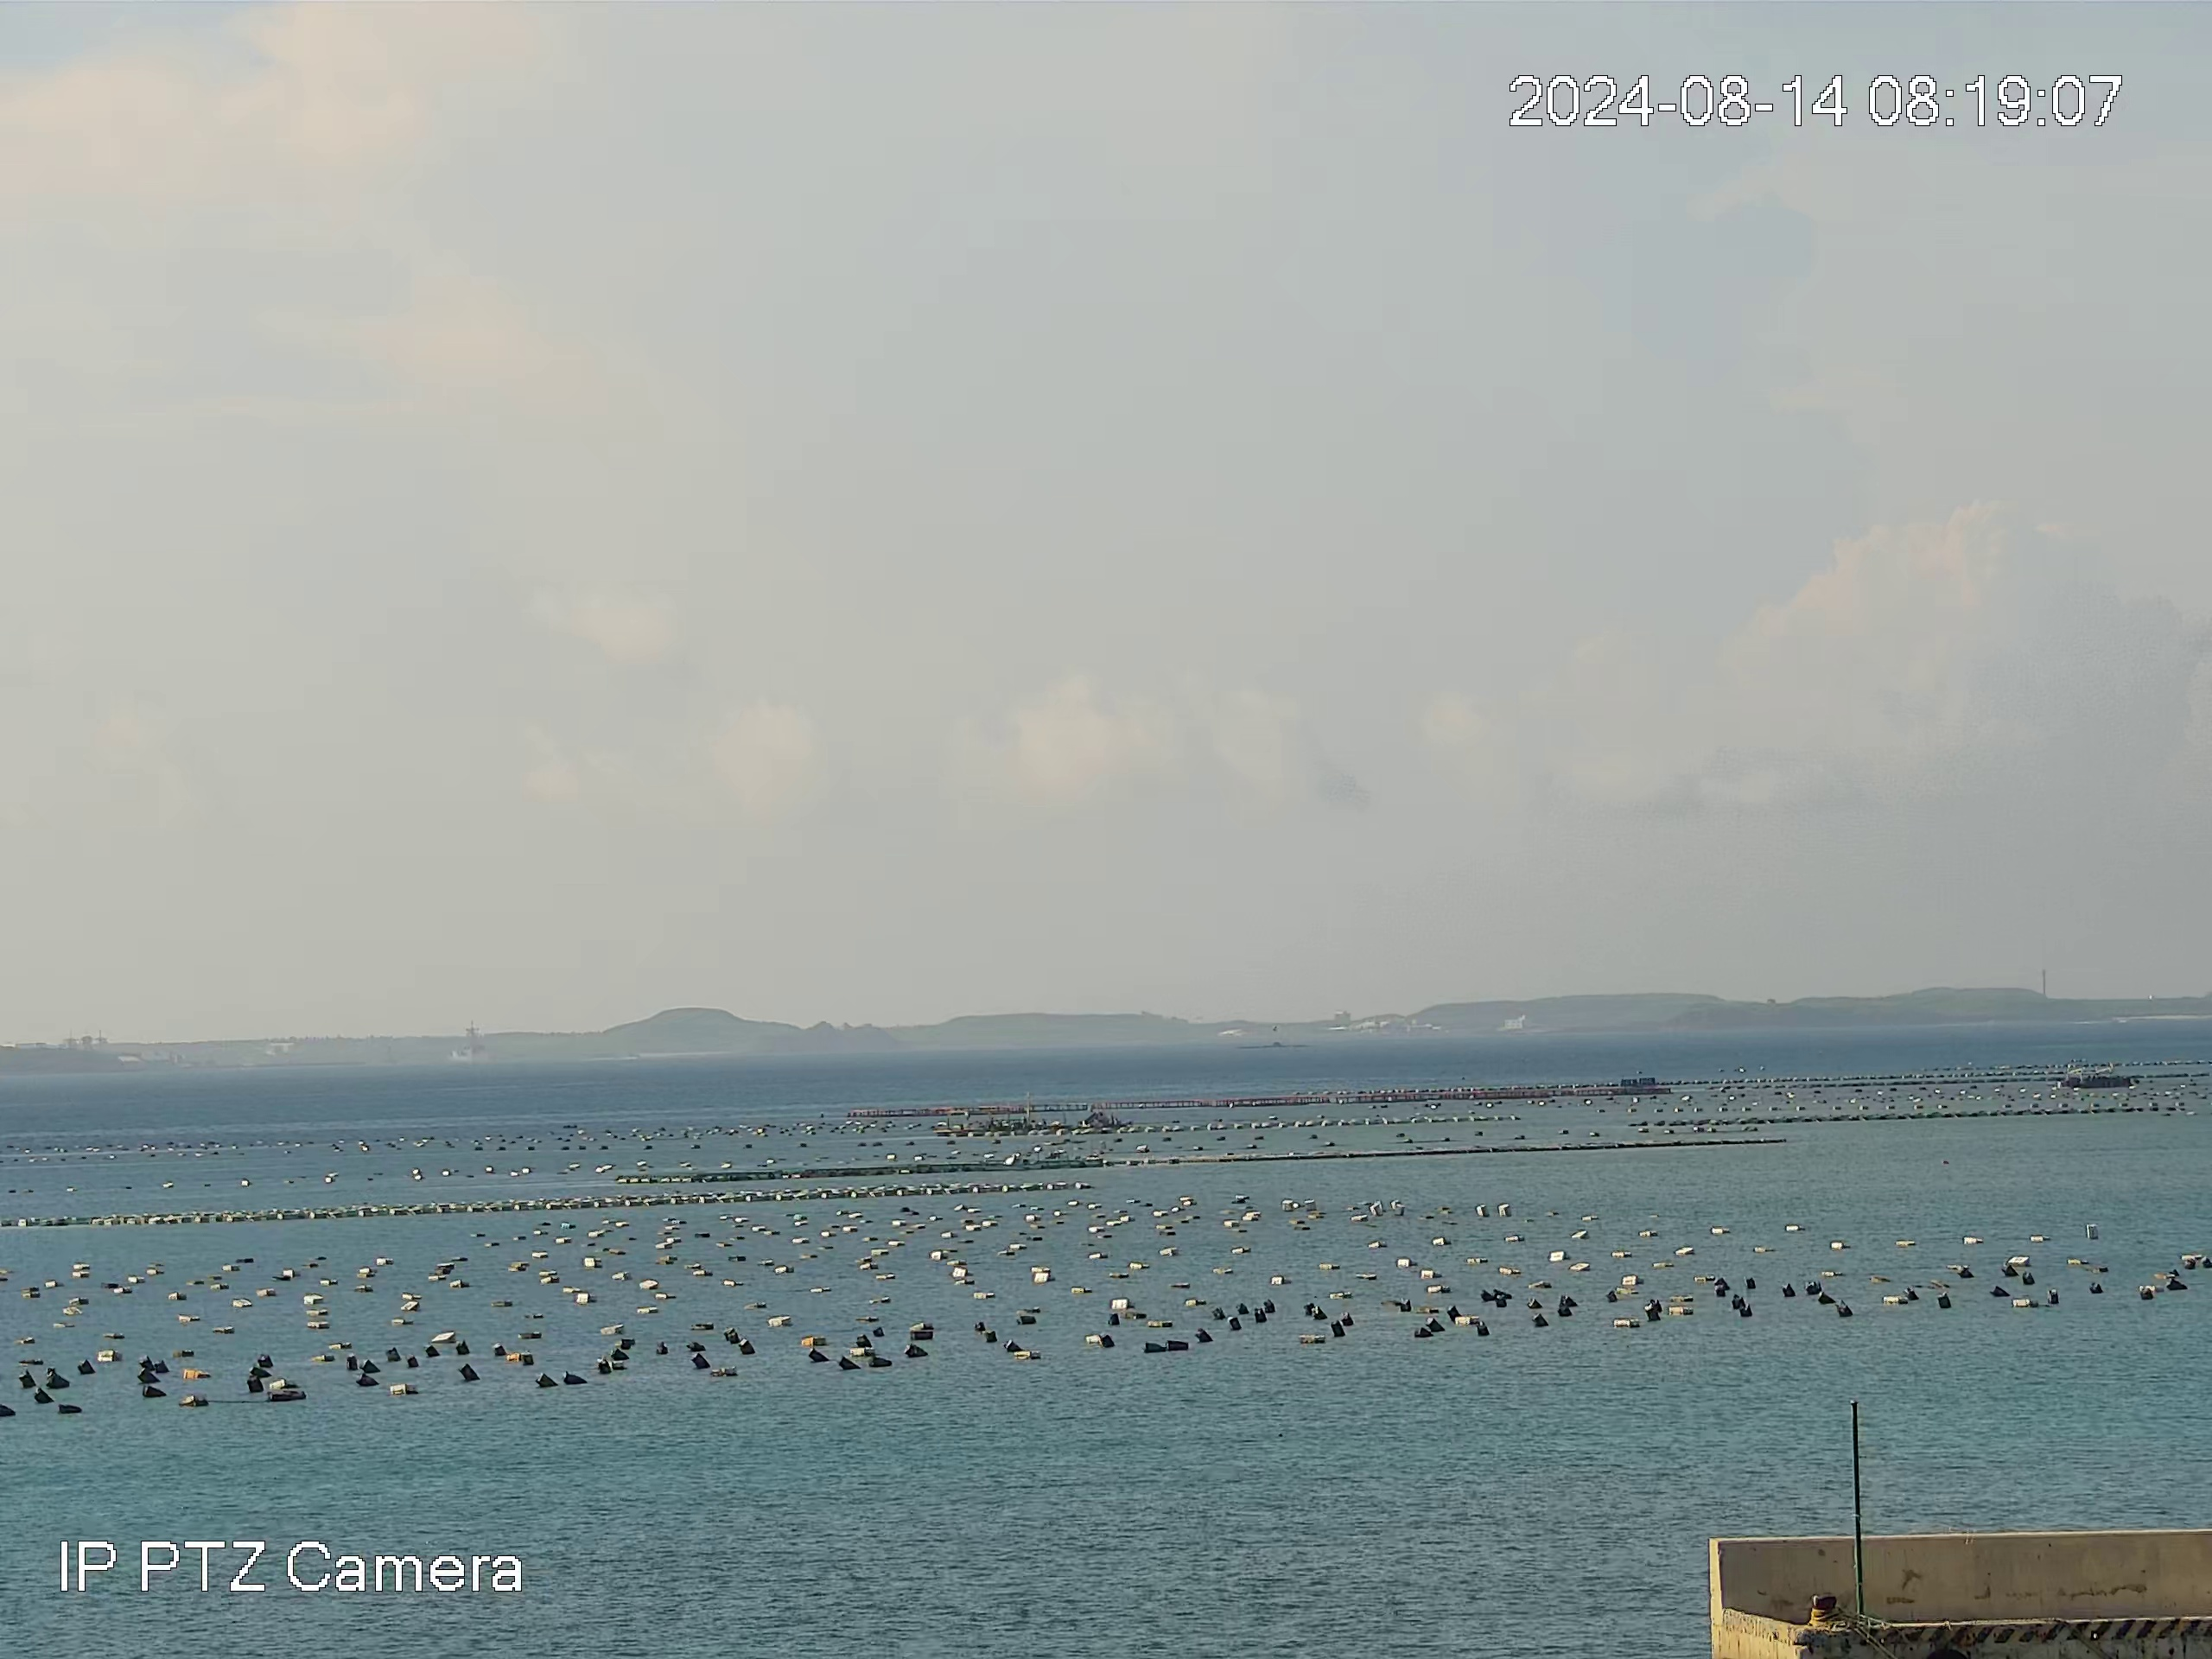boat: (2062, 1065, 2137, 1089)
